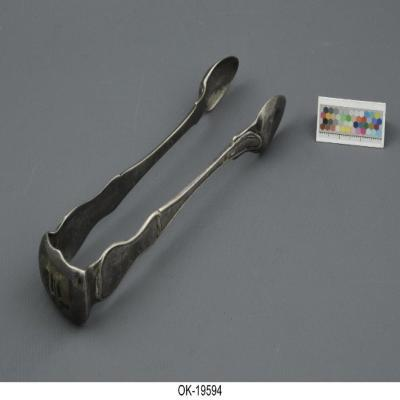dpi: (38, 54, 286, 328)
